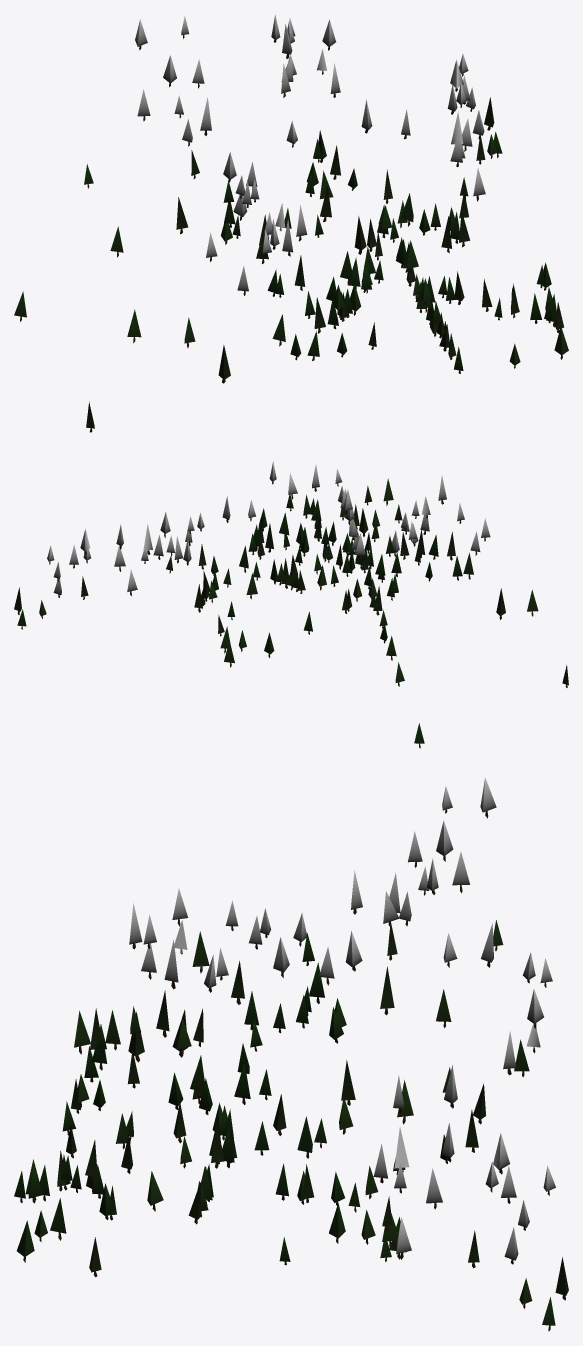
Rendered from c_trees_mountainlake_mid.fbx.
3 renders of one model, top to bottom at view 1: azimuth 30°, elevation 25°; view 2: azimuth 150°, elevation 25°; view 3: azimuth 270°, elevation 25°, orthographic. The views are drawn at different scales.
Parts seen in each view (by area): view 1: c_trees_mountainlake_mid; view 2: c_trees_mountainlake_mid; view 3: c_trees_mountainlake_mid.
Boxes of the visible parts, box(x1,y1,x2,y2) form: c_trees_mountainlake_mid: box(14, 15, 568, 432); c_trees_mountainlake_mid: box(14, 461, 568, 748); c_trees_mountainlake_mid: box(14, 777, 568, 1331).
Bounding box in the file's own units: 212 × 110 × 146.
